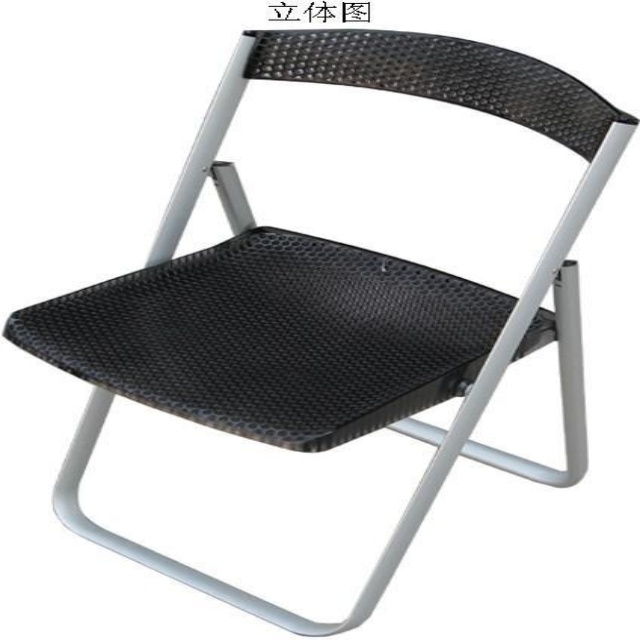obstacle: (6, 29, 635, 635)
